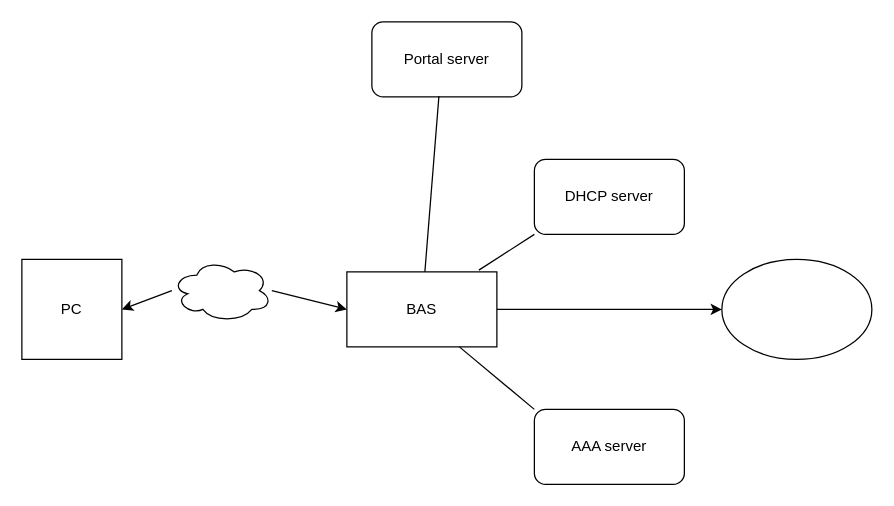
The diagram is 894 pixels wide and 506 high, and some of its shapes have lost their labels. Here are the shapes that lost their labels. From the top down, the centre of each, then its label:
At point (221, 290): "switch".
At point (796, 308): "Internet".
